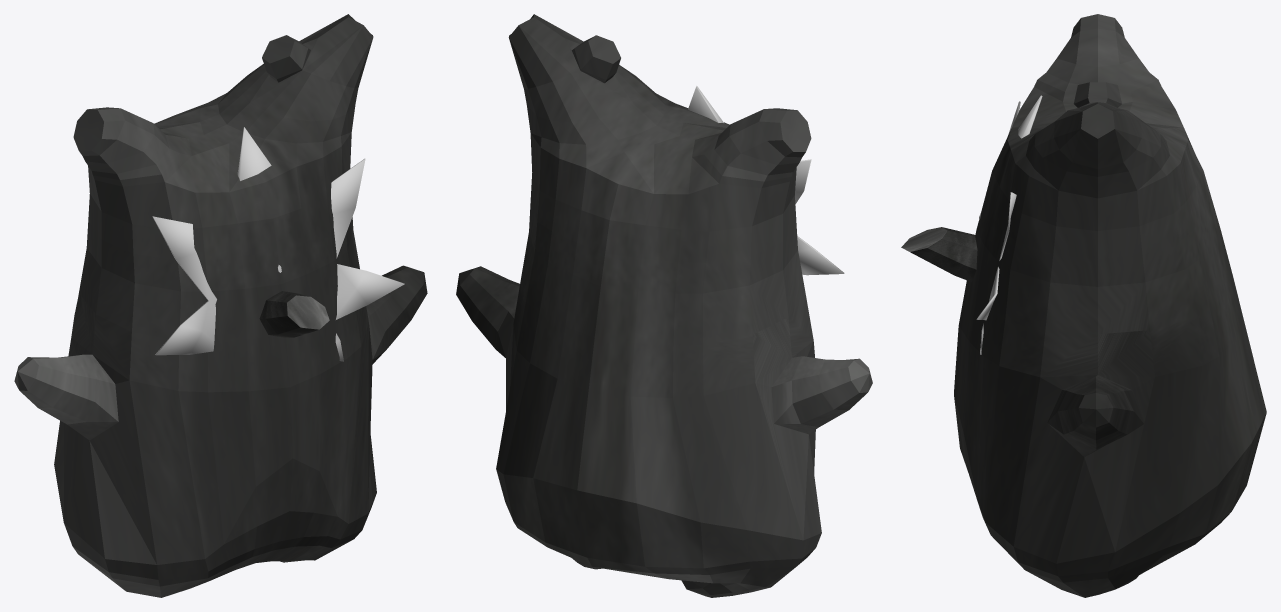
Rendered from frame_0046.obj.
3 views of the same model, side by side, from view 1: azimuth 30°, elevation 25°; view 2: azimuth 150°, elevation 25°; view 3: azimuth 270°, elevation 25° (orthographic). The views are drawn at different scales.
Parts seen in each view (by area): view 1: korok, leaf, nose.003_柱体.011; view 2: korok, leaf; view 3: korok, nose.003_柱体.011, leaf.
Part boxes in pixels (x1,y1,x2,y2): korok: [14, 14, 427, 597]; leaf: [152, 127, 404, 361]; nose.003_柱体.011: [259, 291, 329, 337]; korok: [456, 14, 872, 597]; leaf: [688, 86, 844, 275]; korok: [954, 14, 1266, 597]; nose.003_柱体.011: [901, 227, 977, 281]; leaf: [976, 95, 1042, 354].
Bounding box in the file's own units: 1.72 × 2.1 × 1.35.
